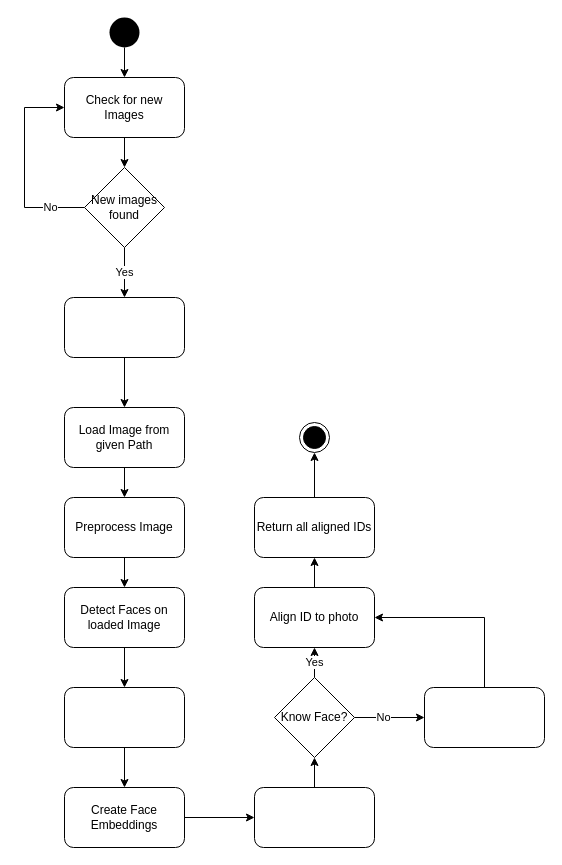
This 562x865 diagram has some shape labels left out. The shapes that lost their labels are listed below. From the top down, each one's centre as x and y in pixels, then its label:
pixel 124 327: Send REST Call to Face Recognition-API
pixel 124 717: Preprocess Detections
pixel 484 717: Create new ID
pixel 314 817: Check local table for known Faces
